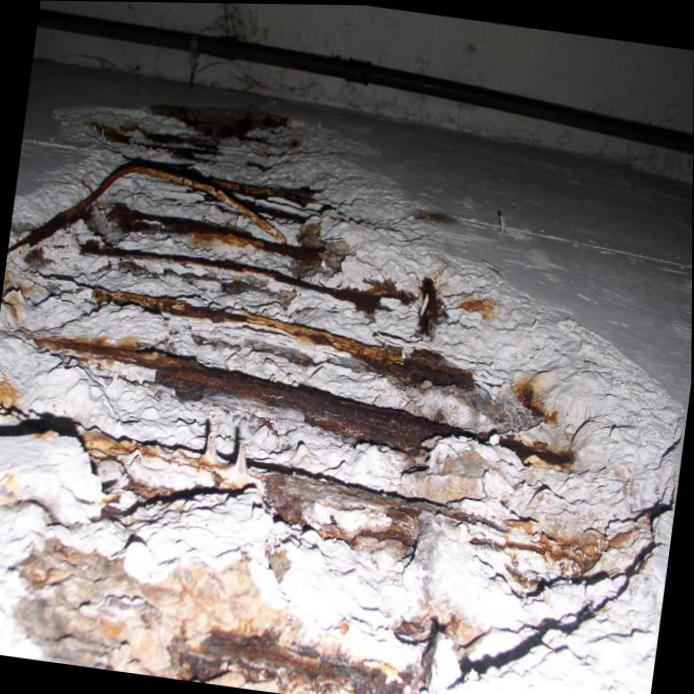damage: (0, 88, 688, 694)
